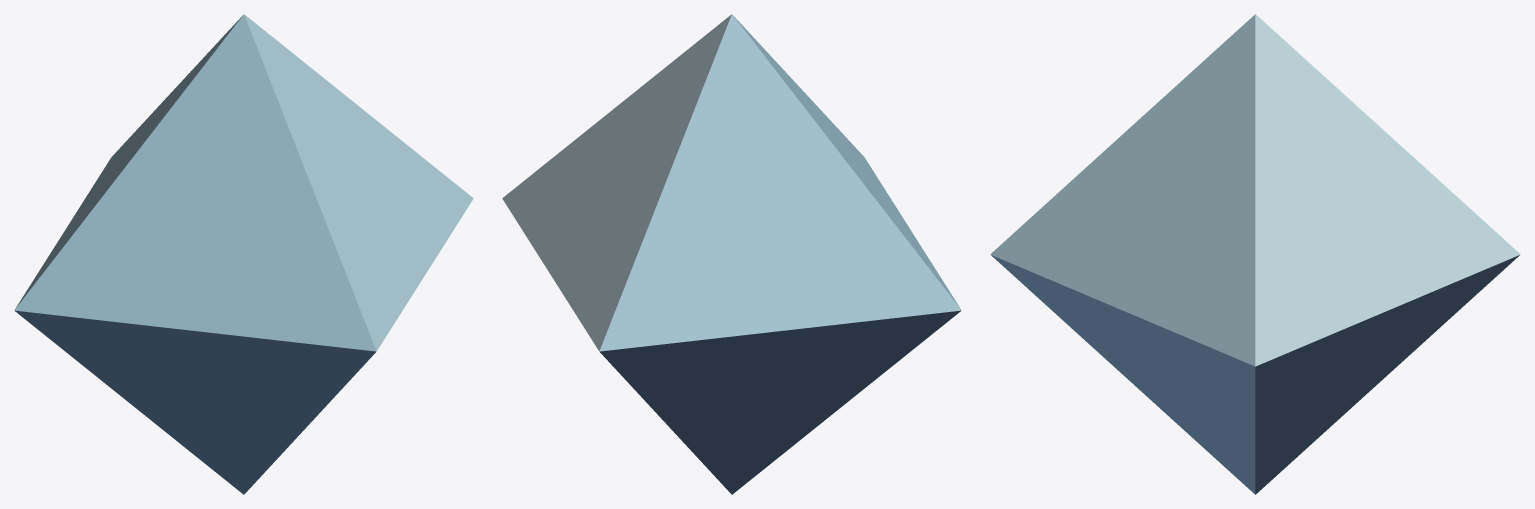
Rendered from control_cursor.glb.
3 views of the same model, side by side, from view 1: azimuth 30°, elevation 25°; view 2: azimuth 150°, elevation 25°; view 3: azimuth 270°, elevation 25° (orthographic).
Visible parts, largest first — view 1: control_cursor; view 2: control_cursor; view 3: control_cursor.
Boxes of the visible parts, x1,y1,x2,y2 form: control_cursor: (14, 14, 473, 494); control_cursor: (502, 14, 961, 494); control_cursor: (990, 14, 1520, 494).
Size of the model in its own units: 2 by 2 by 2.
